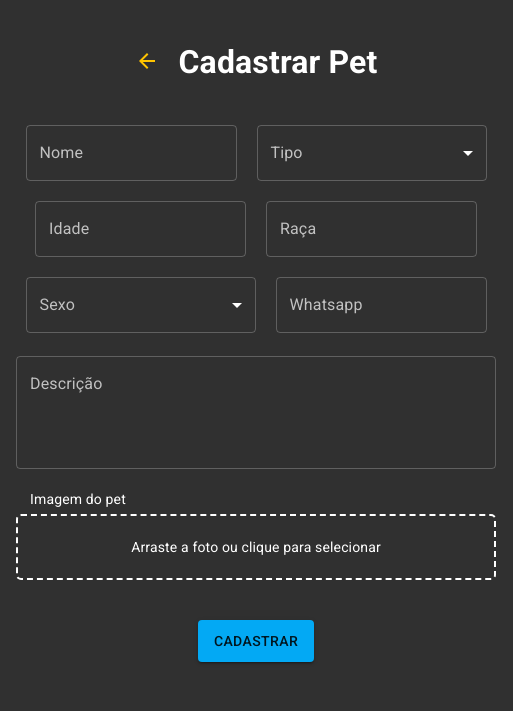
Add pet page (menu) › should not allow the user to register an empty pet
Check: the text "Campo obrigatório" is not shown
Click the button with test id "submit-button": (256, 641) [198,620,314,662]
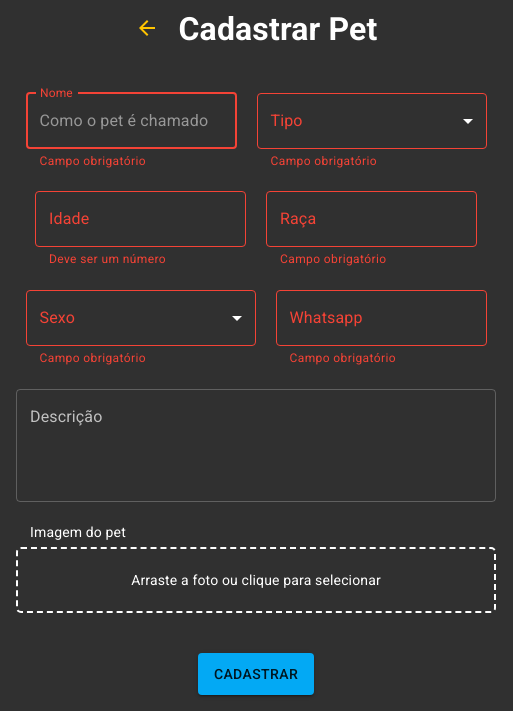
Check: the text "Campo obrigatório" below "Nome" is shown, box [40,154,147,168]
